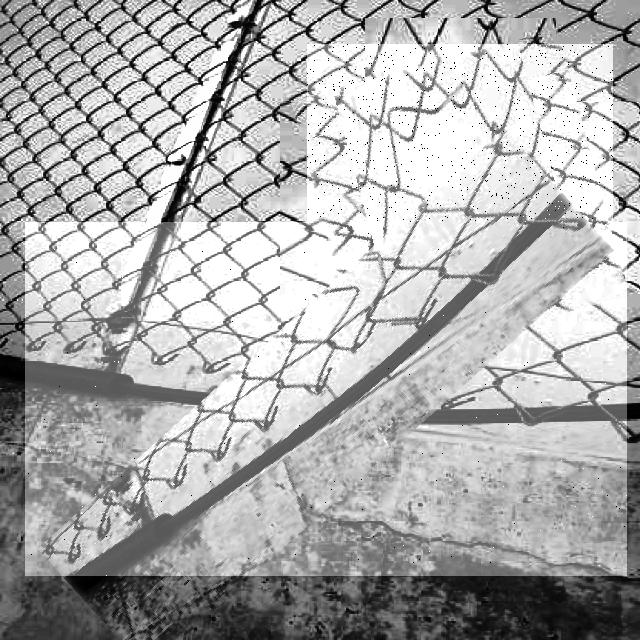anomaly-fence: (25, 222, 627, 576), (307, 44, 613, 352)
